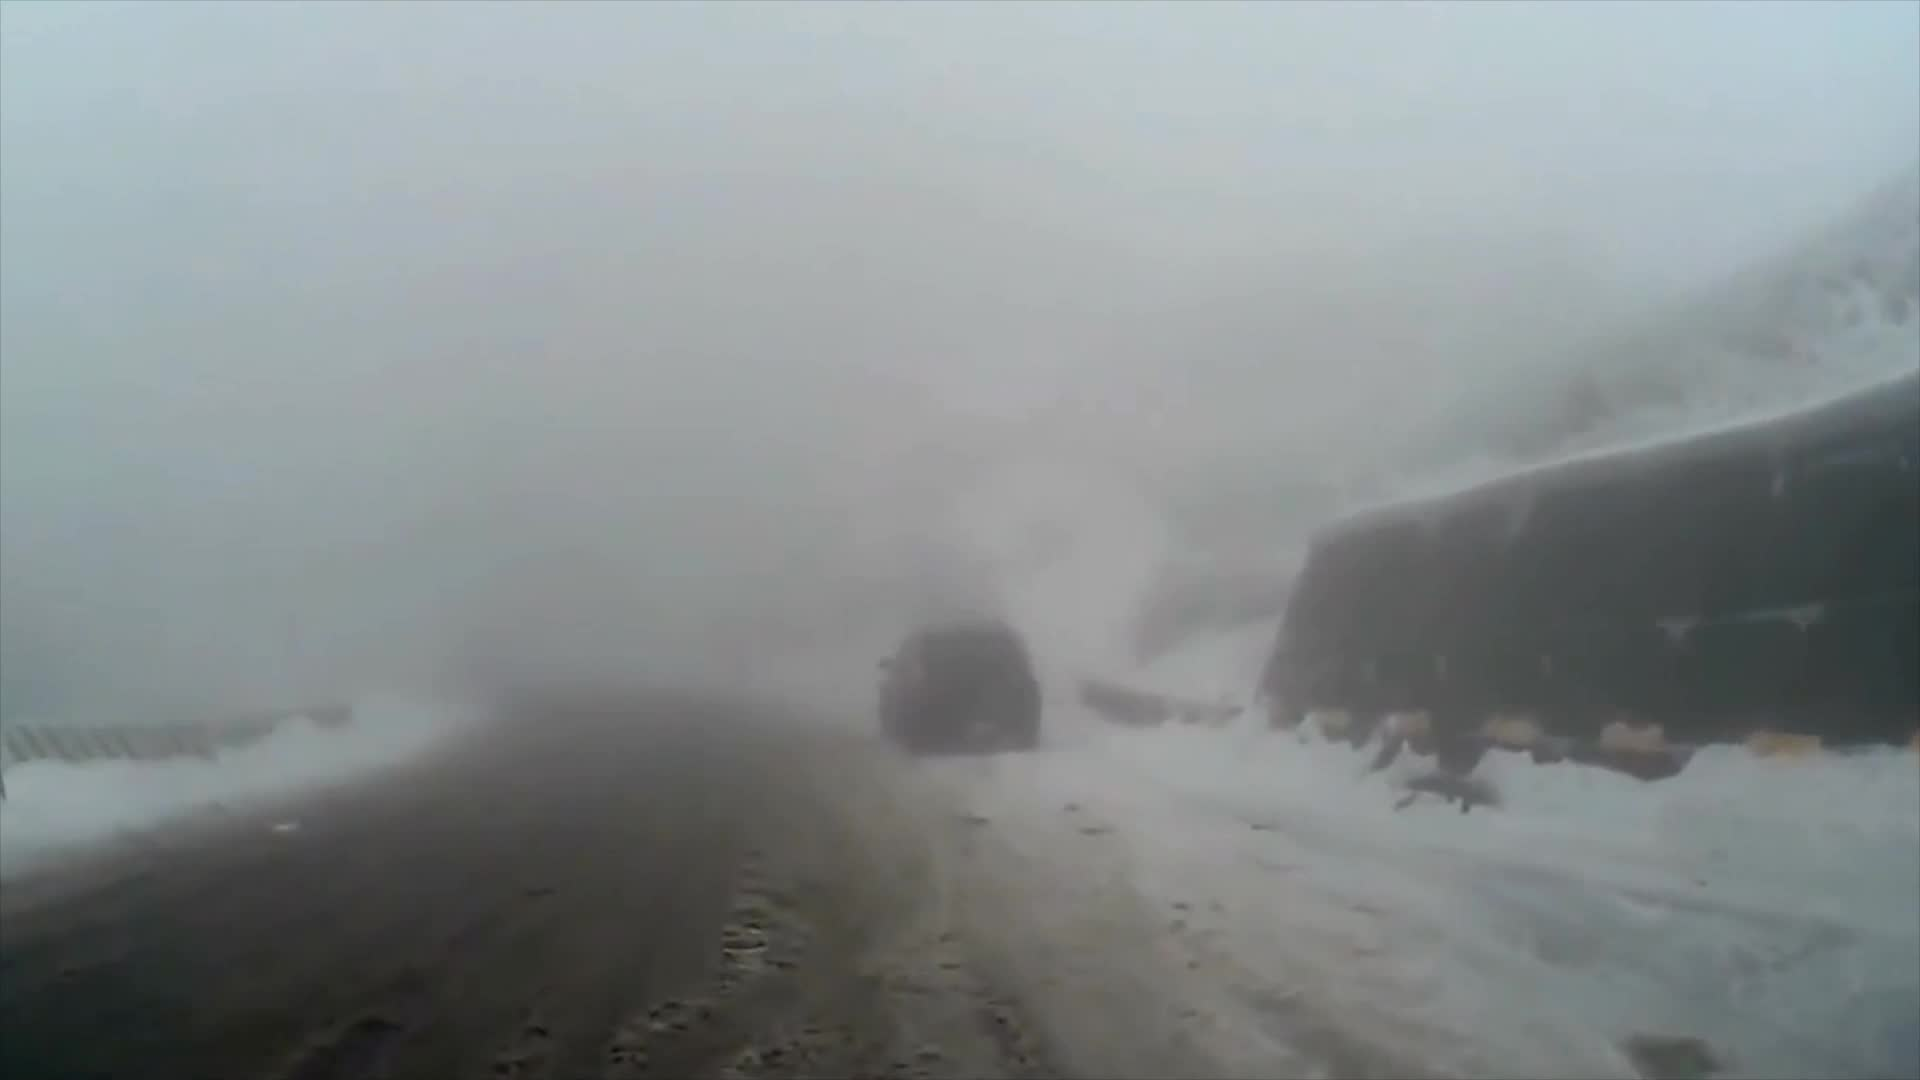vehicle: (874, 613, 1040, 756)
